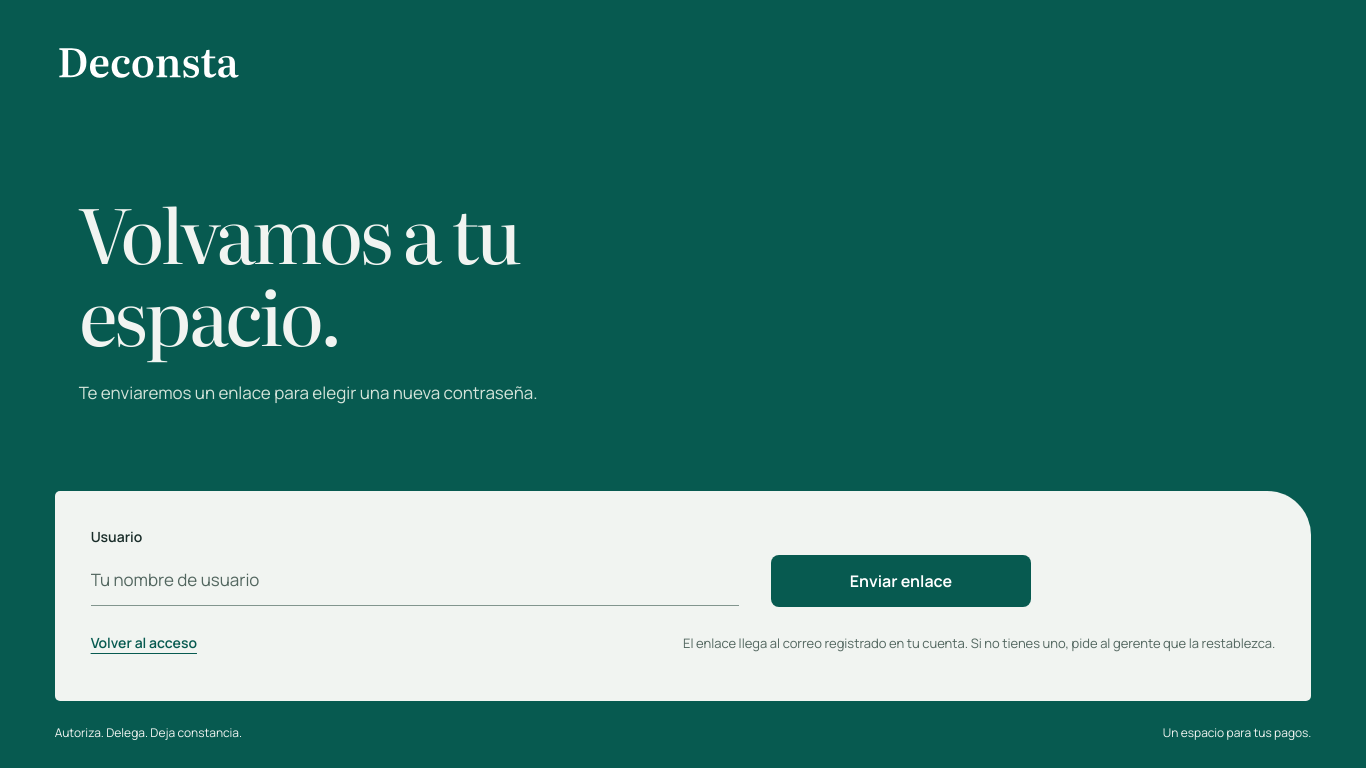
Test: recuperación por usuario › un 422 del servidor se muestra en el campo del usuario
Type "ana" into the field named "username".
click(415, 580); type("ana")  # box [91,554,739,606]
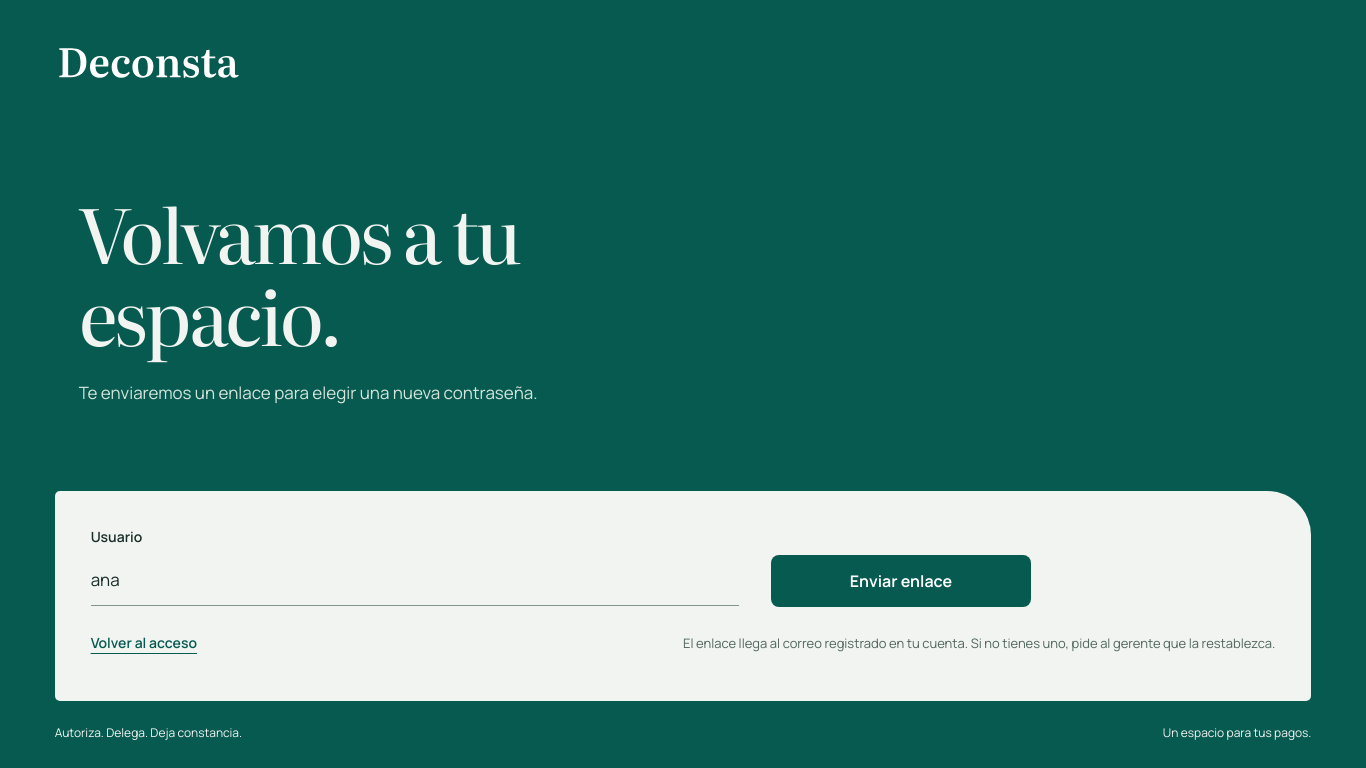
Submit the form, box [91,527,1031,607]
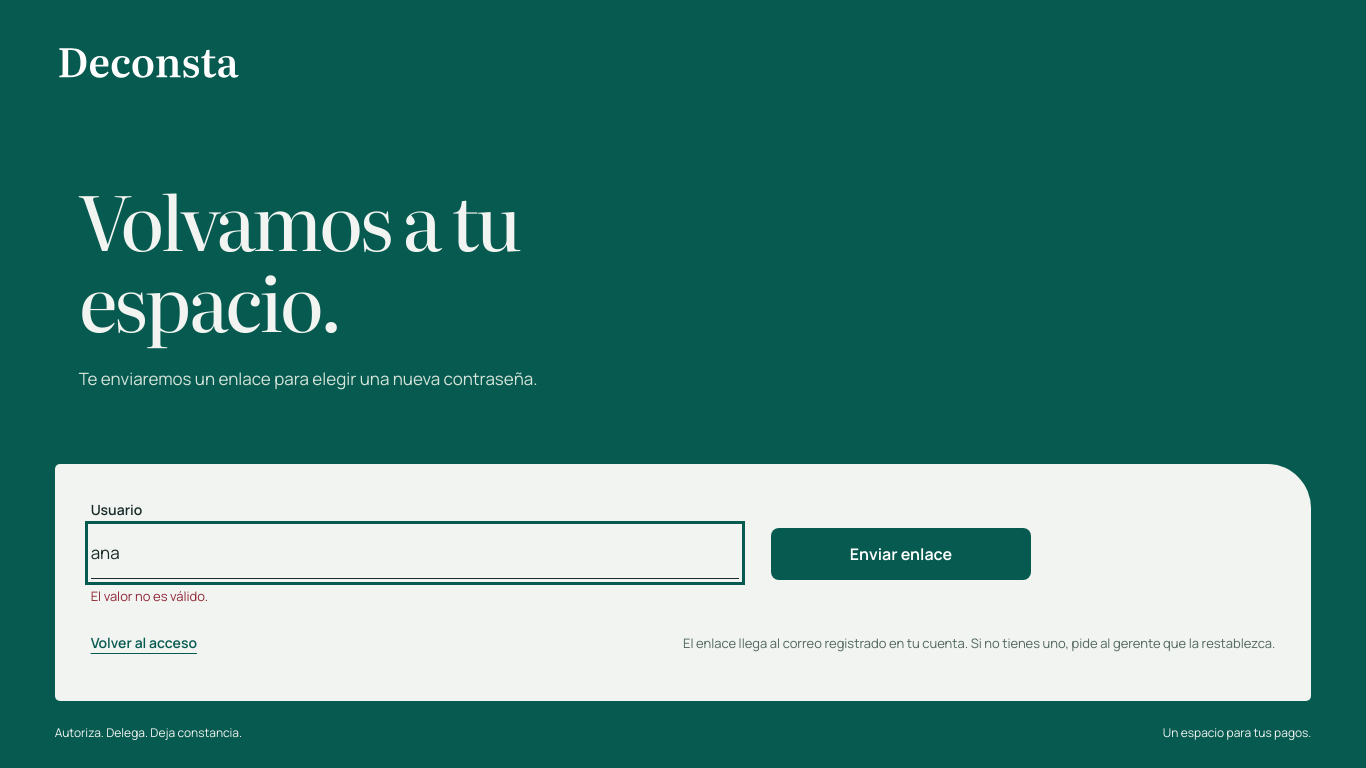
Expected: the message with class "error" reads "El valor no es válido.", [91,588,208,606]
